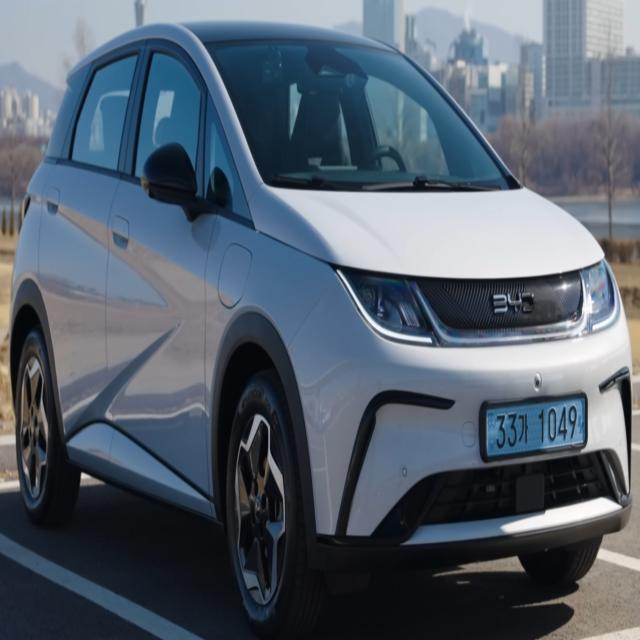car: (464, 386, 597, 475)
carev: (479, 397, 497, 462), (575, 395, 591, 448)
